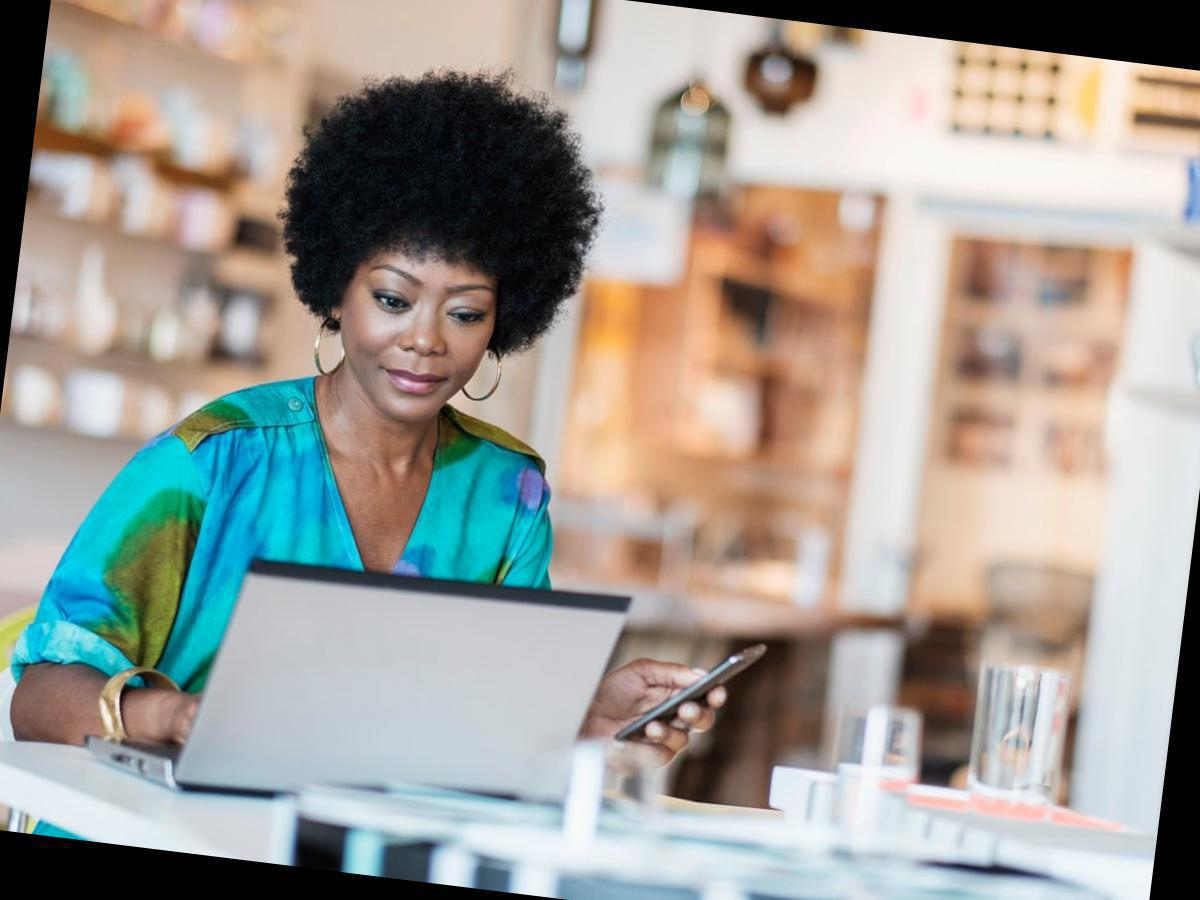Sober: (353, 248, 492, 408)
